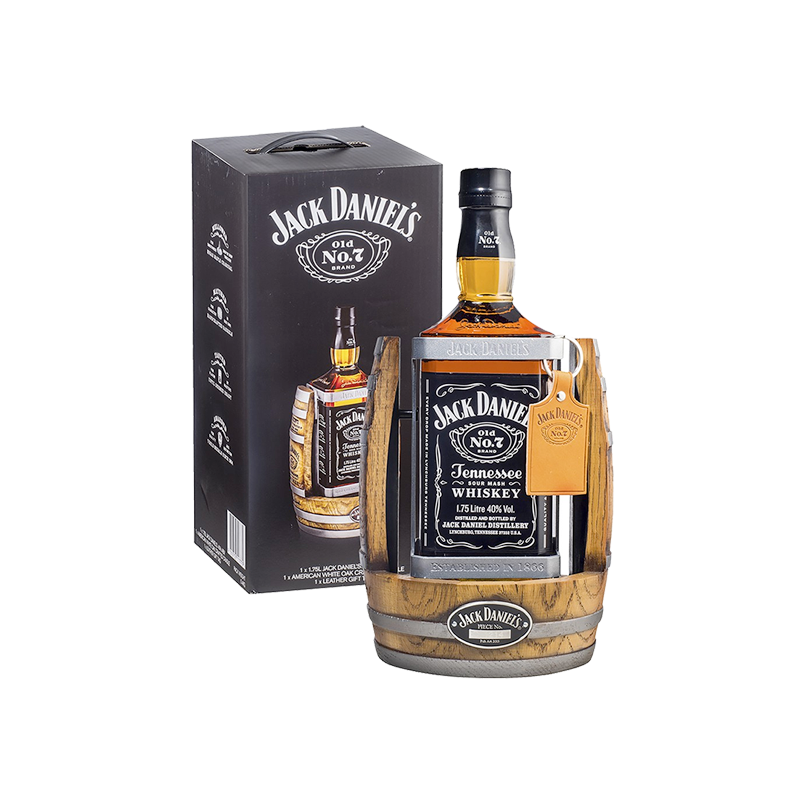jack: (348, 139, 630, 687), (264, 300, 404, 543), (262, 179, 434, 291)
